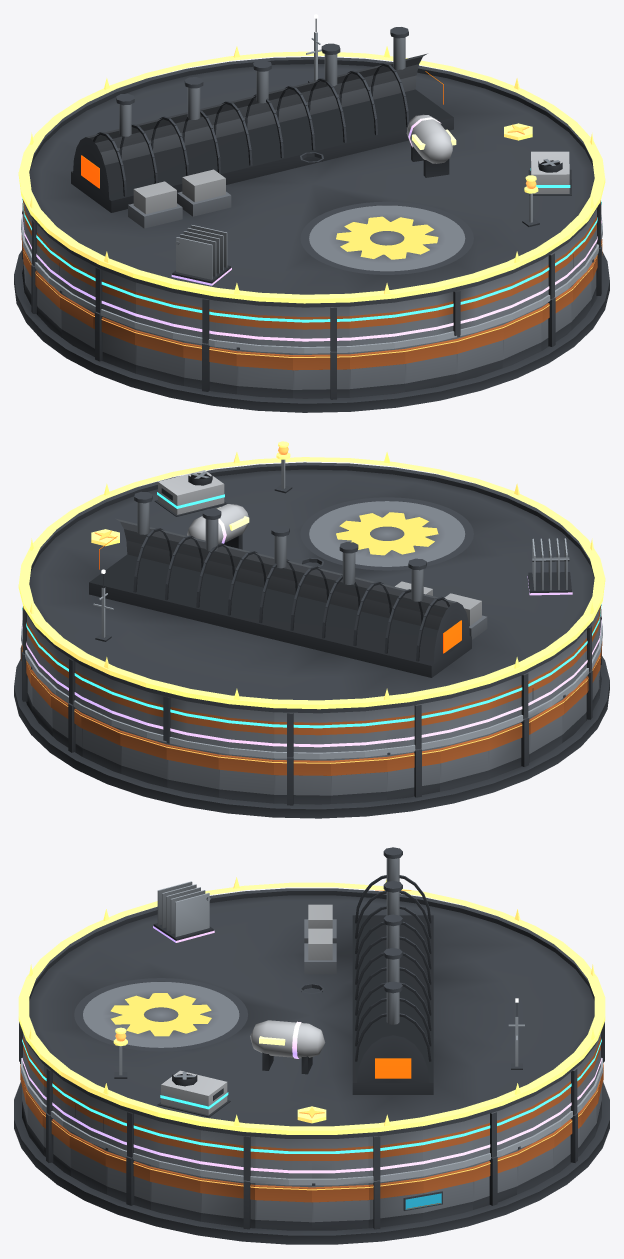
Rendered from ceramics_kiln_m.glb.
3 renders of one model, top to bottom at view 1: azimuth 30°, elevation 25°; view 2: azimuth 150°, elevation 25°; view 3: azimuth 270°, elevation 25°, orthographic.
Parts seen in each view (by area): view 1: Roof, Base, L4, Wall_21, Wall_20, Wall_22, Wall_19, Wall_23, Wall_18, Wall_24, Upper_21, Upper_20 (+26 smaller); view 2: Roof, Base, L4, Wall_10, Wall_11, Wall_09, L3, Wall_12, Wall_08, Wall_13, Wall_07, Upper_10 (+27 smaller); view 3: Roof, Base, L4, Wall_00, Wall_31, L3, Wall_30, Wall_29, Wall_01, Wall_28, Wall_02, Wall_03 (+26 smaller).
Part boxes in pixels (x1,y1,x2,y2): Roof: (29,27,597,307); Base: (14,250,609,412); L4: (171,114,456,285); Wall_21: (293,351,349,399); Wall_20: (236,347,292,398); Wall_22: (349,347,405,397); Wall_19: (183,341,236,394); Wall_23: (405,337,457,391); Wall_18: (135,329,183,385); Wall_24: (456,323,503,381); Upper_21: (293,306,349,351); Upper_20: (237,303,292,346); Roof: (25,462,599,713); Base: (14,656,609,818); L4: (187,504,572,595); Wall_10: (274,757,330,805); Wall_11: (331,755,387,803); Wall_09: (218,753,274,803); L3: (154,470,323,566); Wall_12: (387,746,440,799); Wall_08: (166,741,218,797); Wall_13: (440,734,488,791); Wall_07: (120,729,167,787); Upper_10: (274,712,330,757); Roof: (27,847,596,1138); Base: (14,1081,609,1244); L4: (153,881,325,1074); Wall_00: (312,1183,368,1230); Wall_31: (255,1183,311,1230); L3: (157,983,324,1117); Wall_30: (200,1176,255,1229); Wall_29: (150,1165,200,1221); Wall_01: (368,1176,423,1229); Wall_28: (105,1147,150,1209); Wall_02: (423,1165,473,1221); Wall_03: (473,1150,518,1209).
Size of the model in its own units: 14.75 by 5.35 by 14.75.
